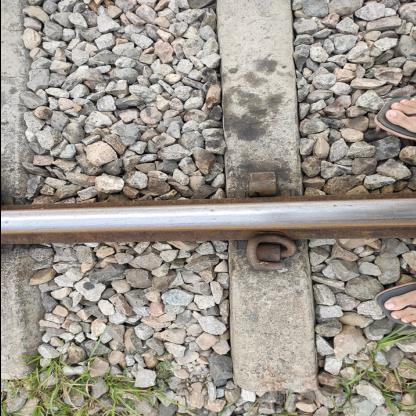Defective 1: (238, 166, 282, 205)
Non Defective 1: (240, 226, 301, 280)
